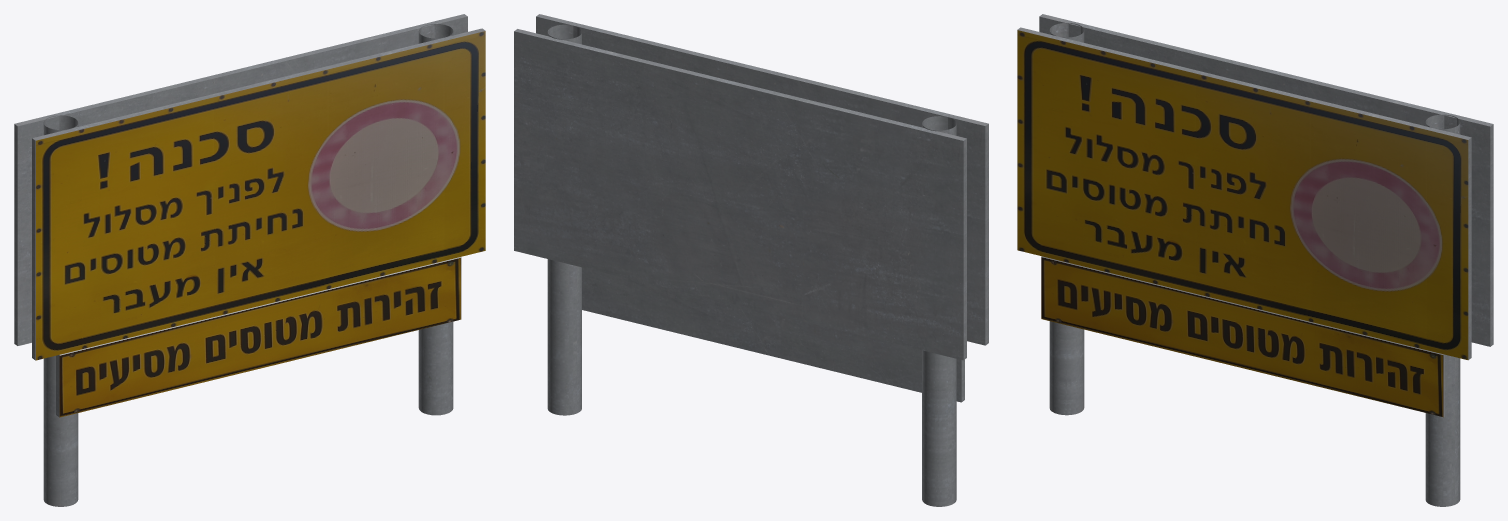
File: KibuiZehirutSacanaShelet.gltf
3 renders of one model, left to right at view 1: azimuth 30°, elevation 25°; view 2: azimuth 150°, elevation 25°; view 3: azimuth 330°, elevation 25°, orthographic.
Parts seen in each view (by area): view 1: node2, node1; view 2: node1; view 3: node2, node1.
Part boxes in pixels (x1,y1,x2,y2): node2: (35,31,485,417); node1: (14,14,485,506); node1: (514,14,988,506); node2: (1017,30,1468,417); node1: (1017,14,1493,506).
Bounding box in the file's own units: 1.51 × 1.2 × 0.1351.
